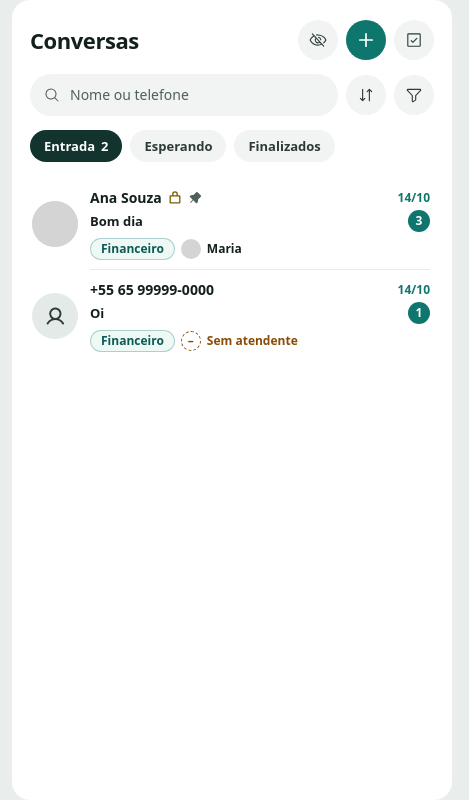
selects chats and marks them read in bulk; the summary stays after the bar closes (spec 2026-10-20 §4)
This screenshot has width=469, height=800.
Check: the text "Ana Souza" is shown, box x1=90 y1=188 x2=162 y2=208
What coordinates should you click on to do the following:
click the button named "Selecionar"
I would click on:
 (414, 40)
Its box is x1=394 y1=20 x2=434 y2=60.
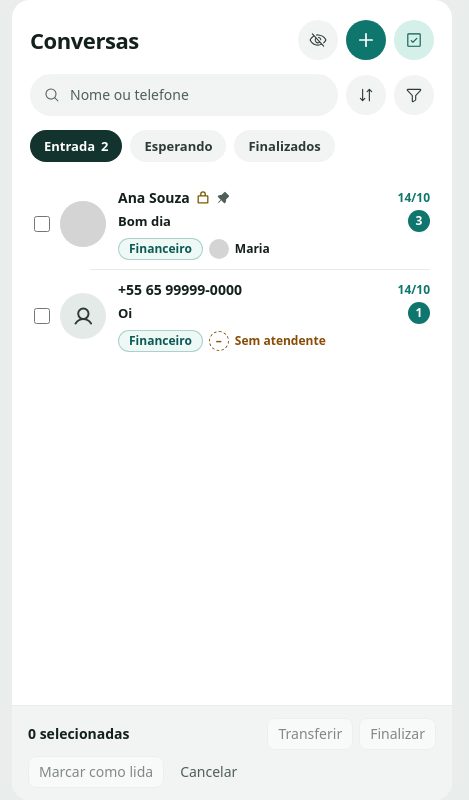
What coordinates should you click on to do the following:
click the checkbox named "Selecionar Ana Souza"
I would click on:
 (42, 224)
Its box is x1=34 y1=216 x2=50 y2=232.
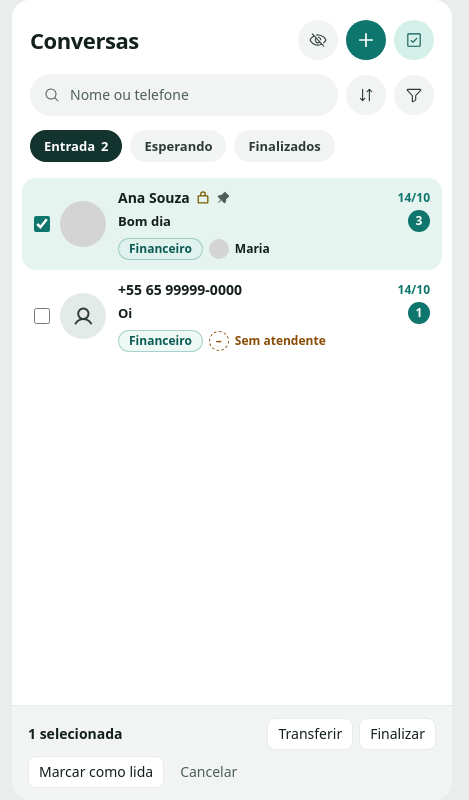
What coordinates should you click on to do the following:
click the text "+55 65 99999-0000"
I would click on:
 (180, 290)
Its box is x1=118 y1=280 x2=242 y2=300.
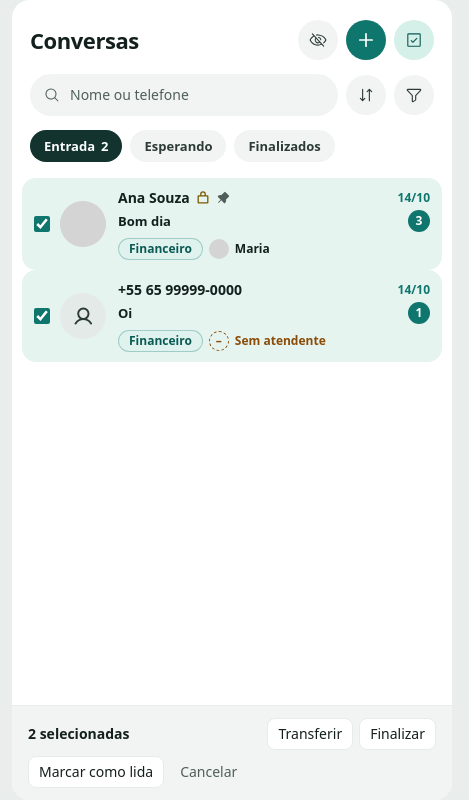
Check: the text "2 selecionadas" is shown, box x1=28 y1=724 x2=130 y2=744
What coordinates should you click on to do the following:
click the button "Marcar como lida"
I would click on:
 (96, 772)
Its box is x1=28 y1=756 x2=164 y2=788.
(page scrolled)
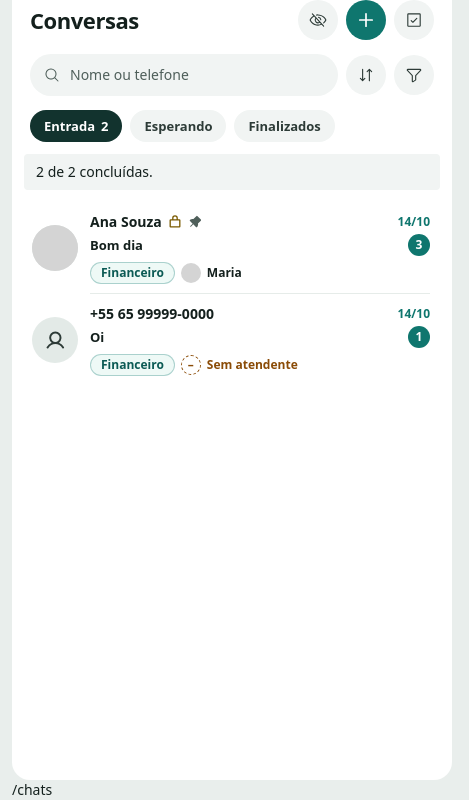
Check: the text with test id "where" reads "/chats", box x1=12 y1=780 x2=52 y2=799
Check: the message reads "2 de 2 concluídas.", box x1=36 y1=162 x2=153 y2=181
Check: the text "2 selecionadas" is gone
